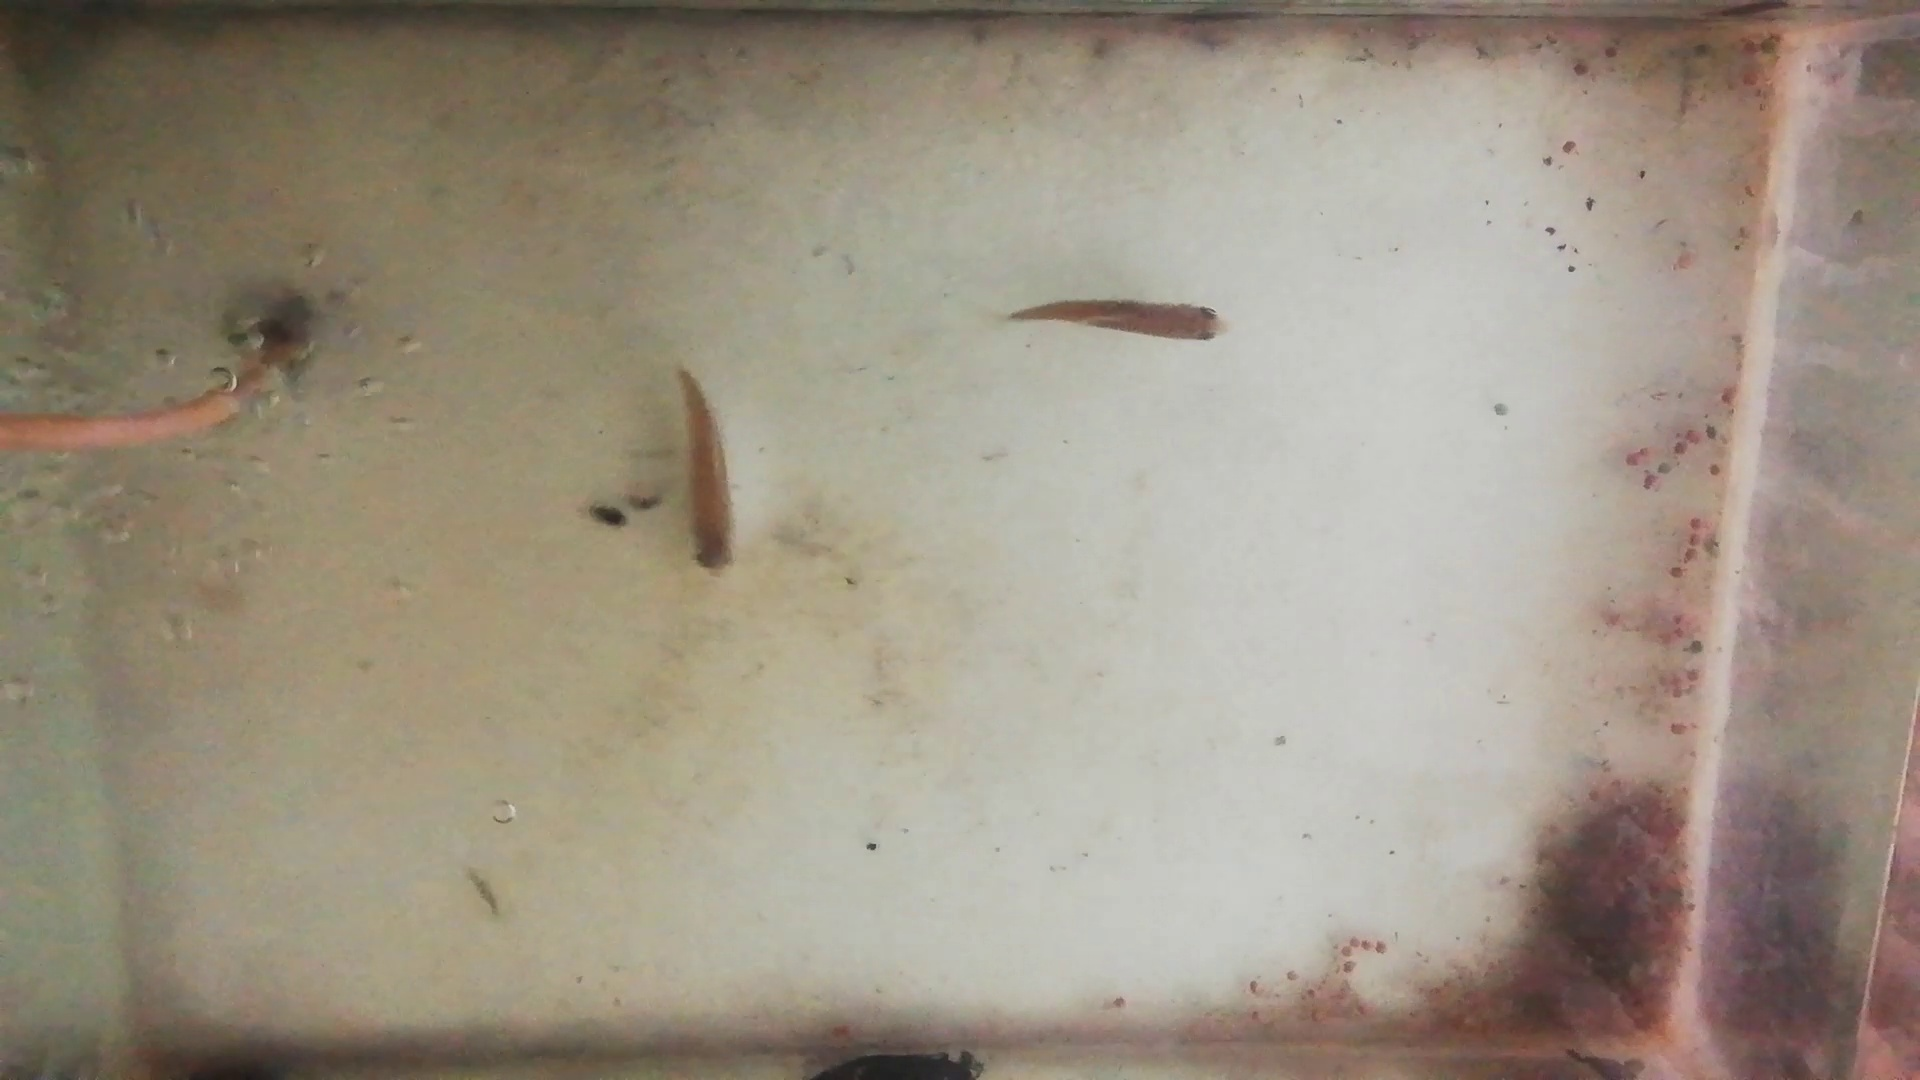fish: (676, 363, 740, 580), (1011, 298, 1226, 342)
